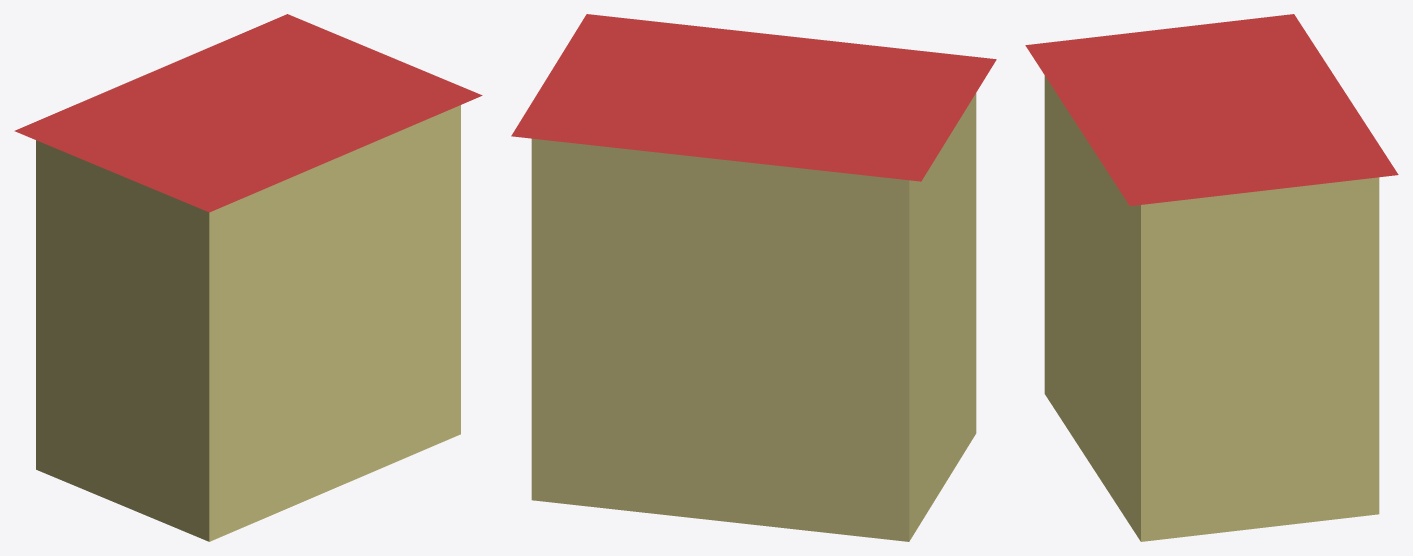
3 views of the same model, side by side, from view 1: azimuth 30°, elevation 25°; view 2: azimuth 150°, elevation 25°; view 3: azimuth 270°, elevation 25° (orthographic). The views are drawn at different scales.
Size of the model in its own units: 7.22 by 5.92 by 6.02.
